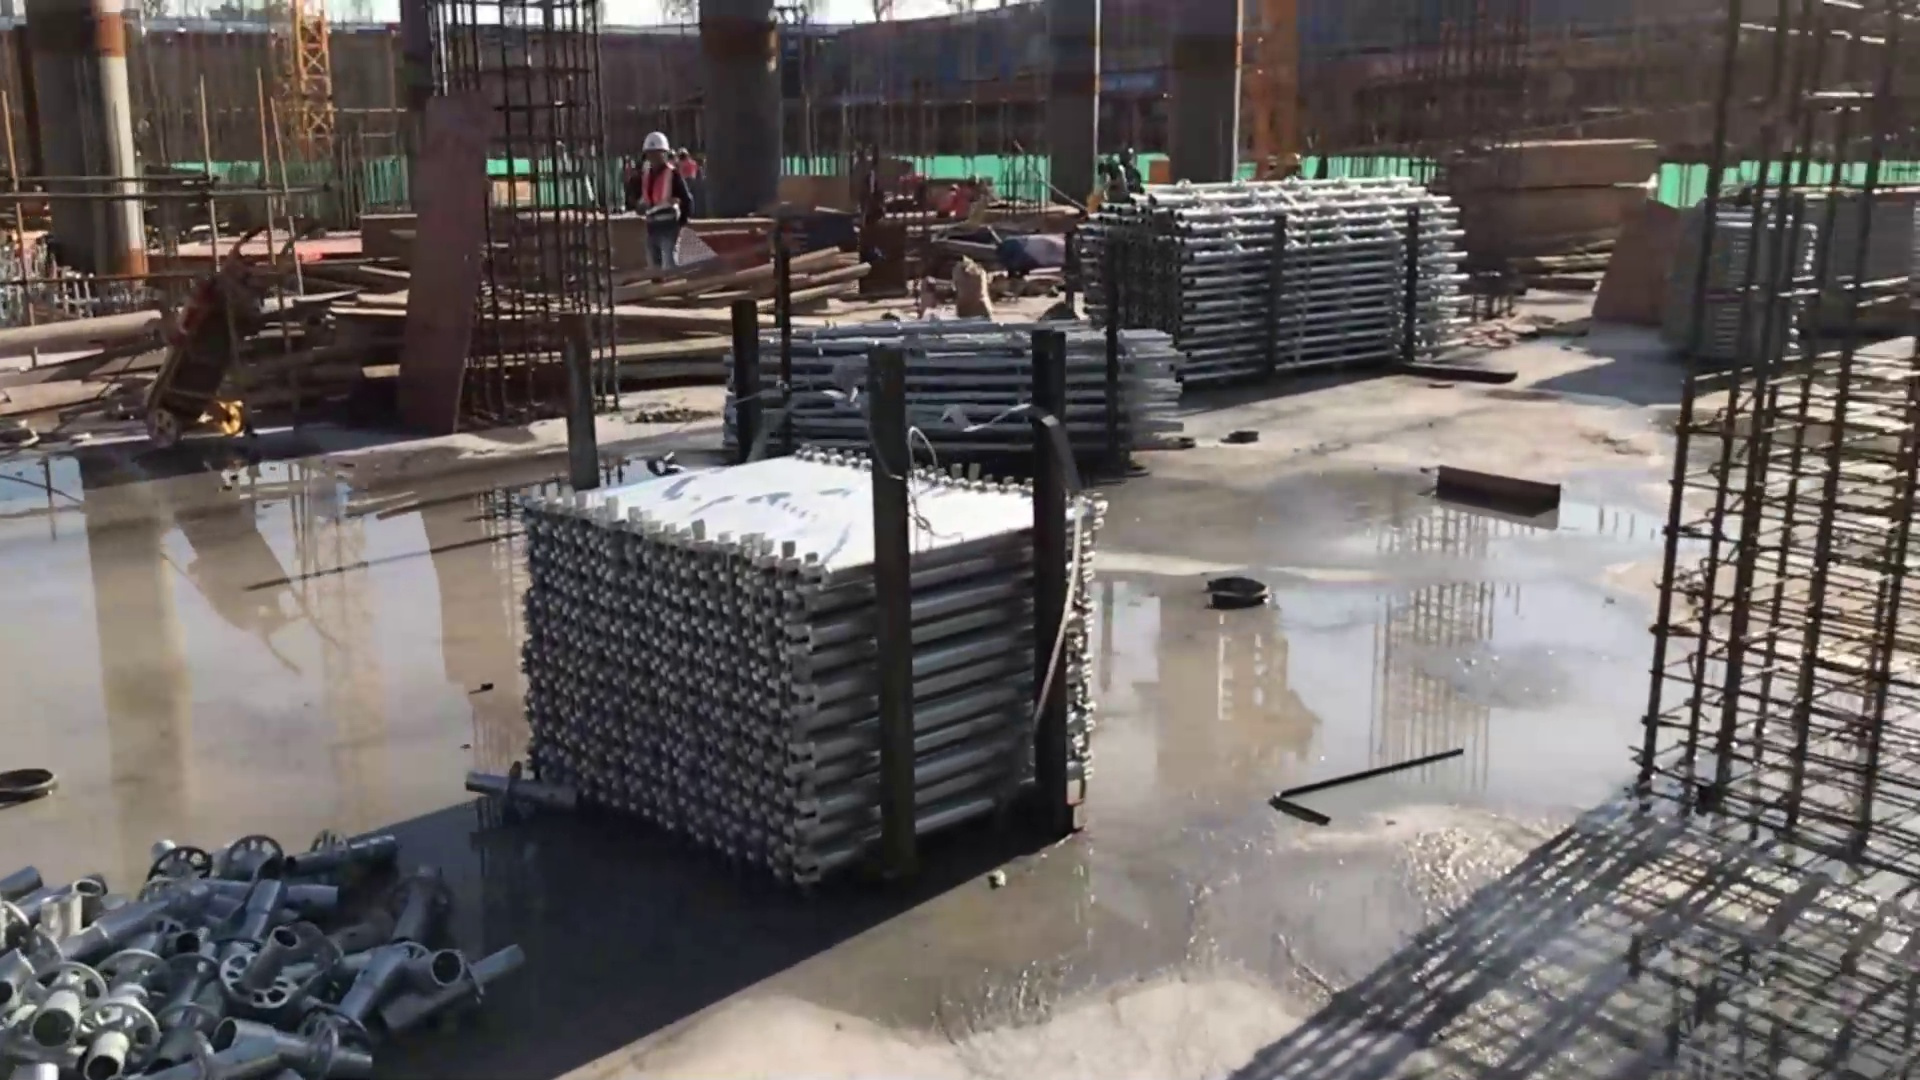helmet: (642, 131, 668, 152)
person: (632, 129, 696, 273)
scaffold: (519, 445, 1098, 899), (15, 807, 497, 1080), (1062, 176, 1456, 380), (721, 316, 1192, 461)
vest: (638, 164, 678, 224)
